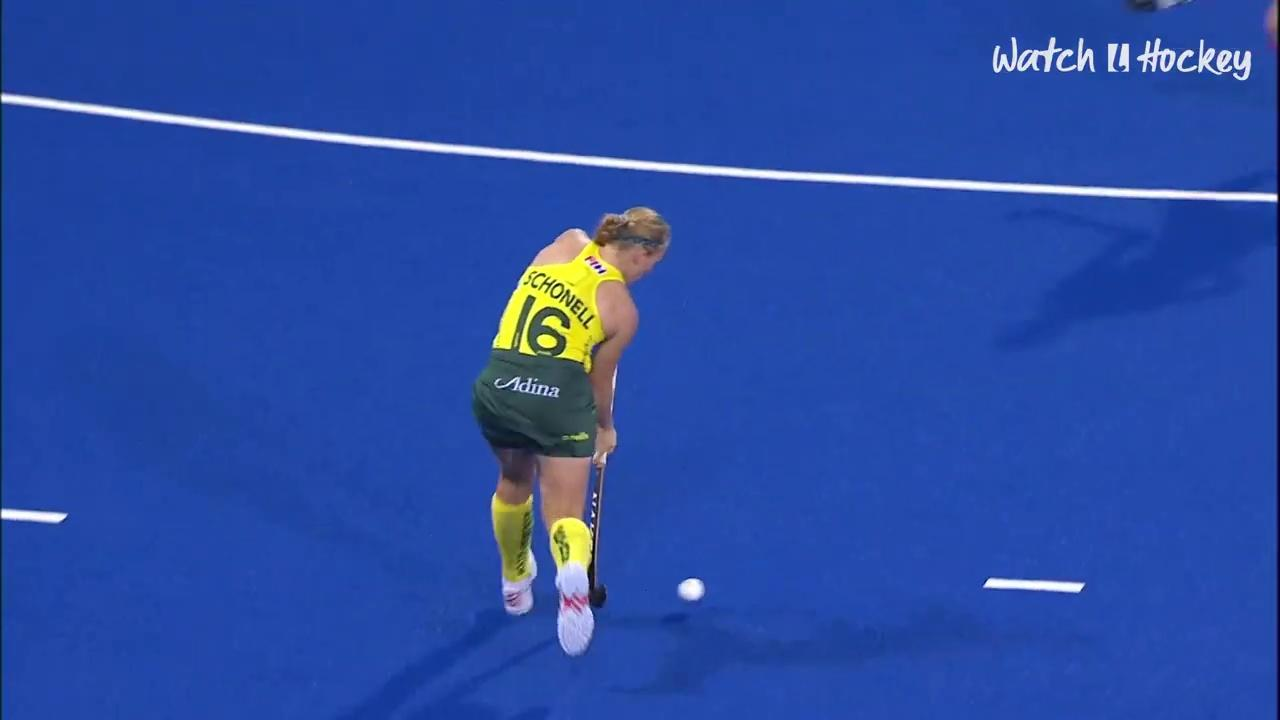ball: (669, 568, 711, 608)
